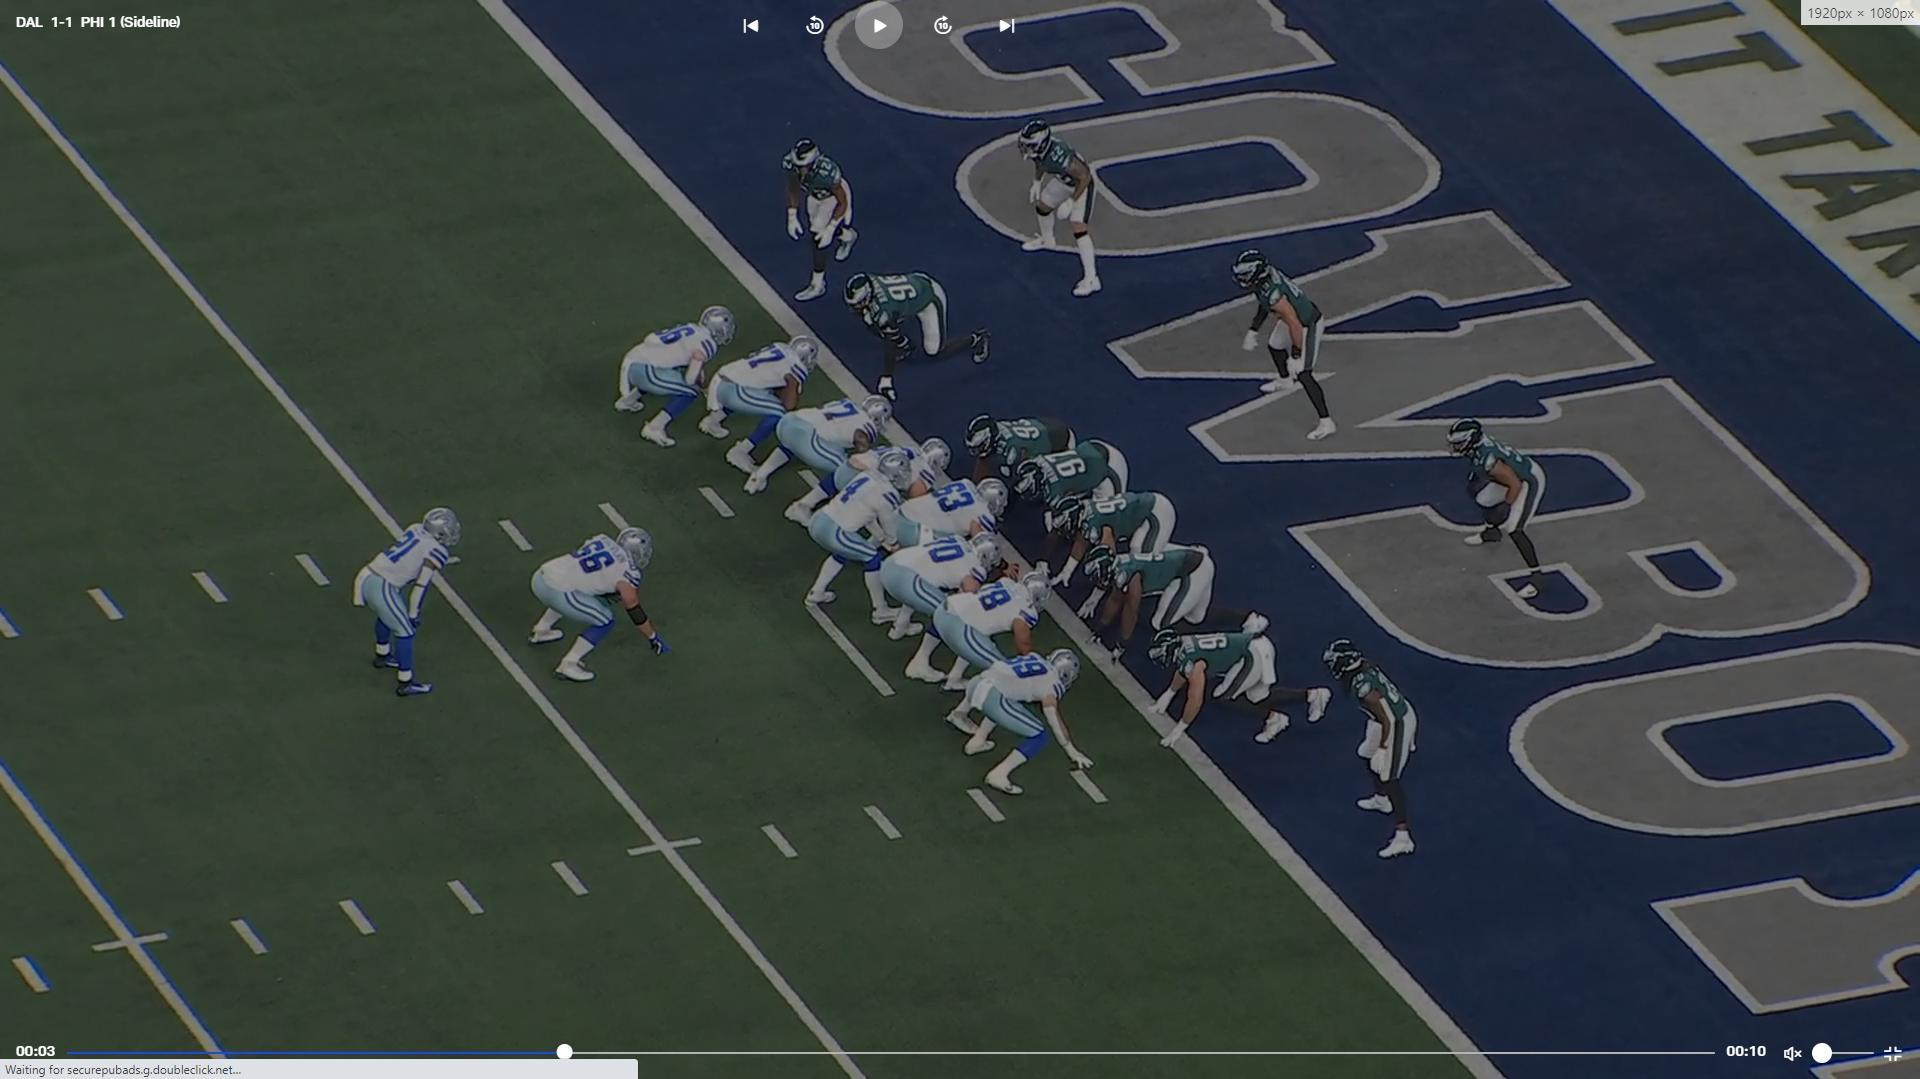player: (533, 527, 682, 686), (1144, 626, 1333, 749), (355, 507, 468, 706), (836, 272, 994, 409), (872, 525, 1007, 684), (1071, 546, 1236, 674), (797, 452, 918, 625), (1236, 256, 1337, 449), (965, 646, 1087, 805), (614, 310, 743, 457), (778, 383, 906, 531), (1327, 643, 1411, 854), (928, 577, 1047, 721), (1452, 417, 1543, 601), (703, 337, 813, 489), (1018, 120, 1105, 300), (1043, 489, 1180, 596), (784, 131, 868, 303), (813, 437, 945, 511), (1011, 439, 1131, 520), (901, 473, 1012, 548), (964, 410, 1078, 478)
